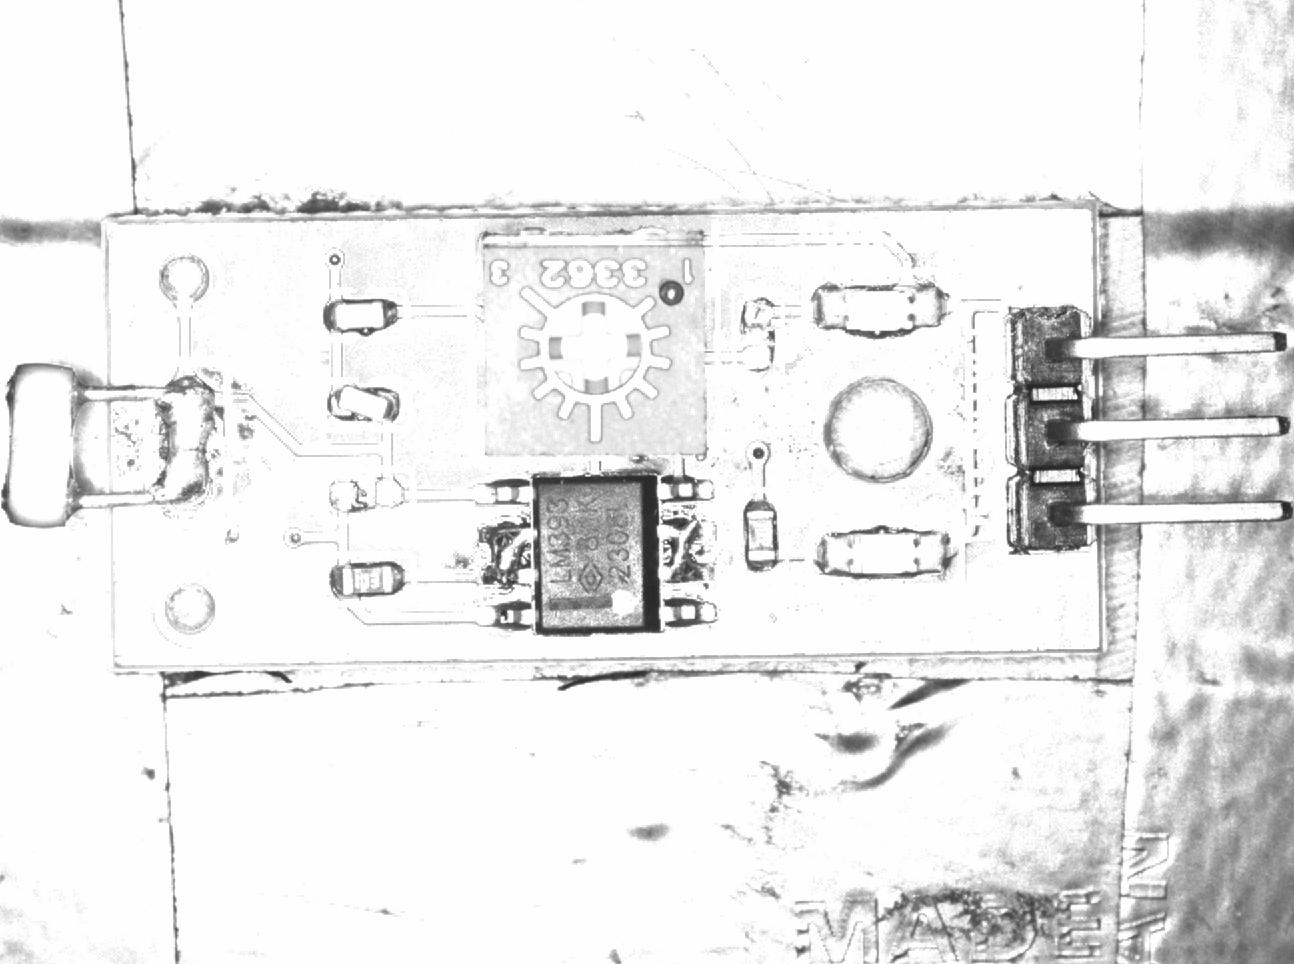bridge: (148, 368, 230, 516), (473, 514, 538, 596), (658, 505, 713, 588)
lifted: (323, 381, 408, 427)
miss: (734, 287, 782, 378), (323, 471, 415, 514)
ok: (313, 289, 413, 338), (325, 551, 414, 605), (736, 490, 786, 577)
